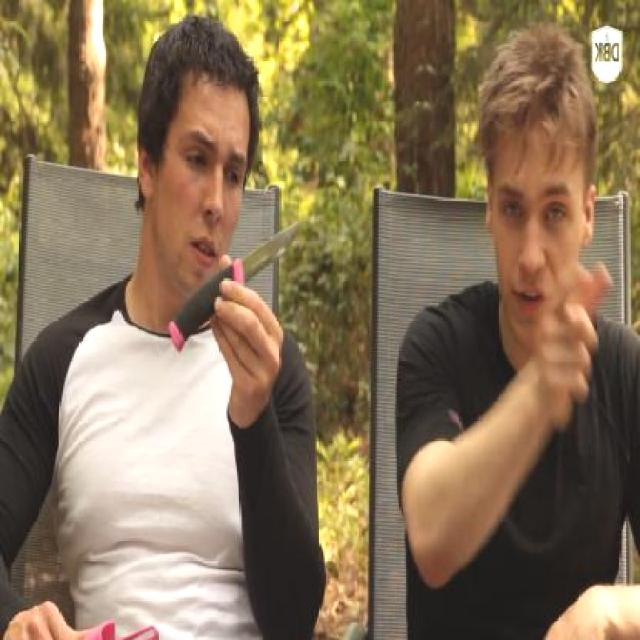knife: (164, 205, 316, 360)
